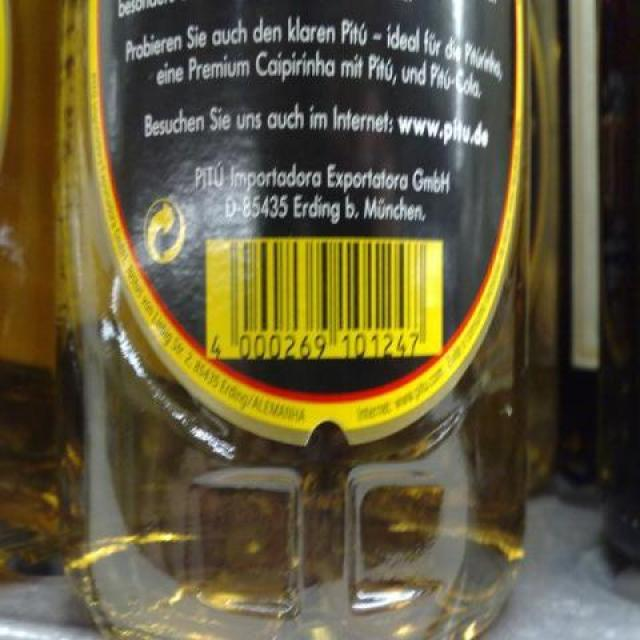Barcode: (204, 232, 445, 361)
